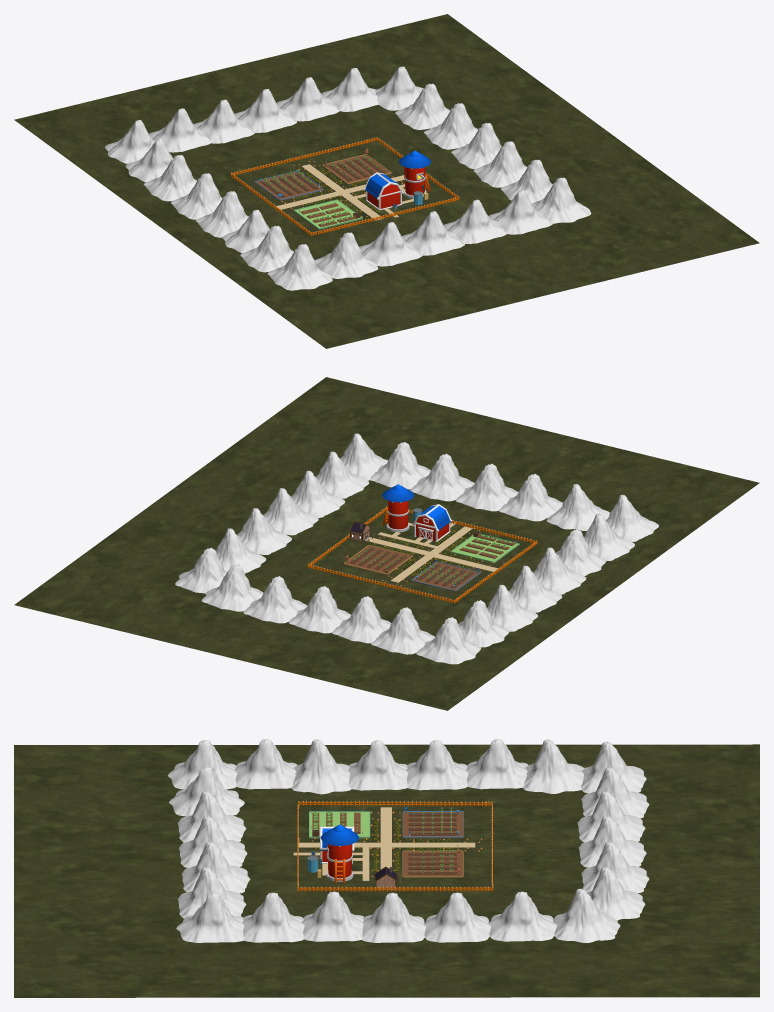
Rendered from finca.glb.
3 views of the same model, one above another, from view 1: azimuth 30°, elevation 25°; view 2: azimuth 150°, elevation 25°; view 3: azimuth 270°, elevation 25° (orthographic). The views are drawn at different scales.
Visible parts, largest first — view 1: Plane.065_Grass Landscape_0, Mountain01_LOD0.015, Mountain01_LOD0.017, Mountain01_LOD0.021, Mountain01_LOD0.022, Mountain01_LOD0.020, Mountain01_LOD0.018, Mountain01_LOD0.010, Mountain01_LOD0.004, Mountain01_LOD0.019, Mountain01_LOD0.005, Mountain01_LOD0.009 (+20 smaller); view 2: Plane.065_Grass Landscape_0, Mountain01_LOD0, Mountain01_LOD0.021, Mountain01_LOD0.020, Mountain01_LOD0.004, Mountain01_LOD0.001, Mountain01_LOD0.019, Mountain01_LOD0.008, Mountain01_LOD0.005, Mountain01_LOD0.018, Mountain01_LOD0.003, Mountain01_LOD0.017 (+21 smaller); view 3: Plane.065_Grass Landscape_0, Mountain01_LOD0.009, Mountain01_LOD0.010, Mountain01_LOD0.006, Mountain01_LOD0.022, Mountain01_LOD0.011, Mountain01_LOD0.024, Mountain01_LOD0.012, Mountain01_LOD0.023, Mountain01_LOD0.013, Mountain01_LOD0.016, Mountain01_LOD0.014 (+22 smaller).
Boxes of the visible parts, <box> form: Plane.065_Grass Landscape_0: <box>14,14,759,348</box>; Mountain01_LOD0.015: <box>267,244,332,290</box>; Mountain01_LOD0.017: <box>314,232,378,278</box>; Mountain01_LOD0.021: <box>359,222,422,266</box>; Mountain01_LOD0.022: <box>532,177,591,223</box>; Mountain01_LOD0.020: <box>443,199,507,243</box>; Mountain01_LOD0.018: <box>488,190,552,234</box>; Mountain01_LOD0.010: <box>395,83,450,129</box>; Mountain01_LOD0.004: <box>276,77,339,121</box>; Mountain01_LOD0.019: <box>401,211,464,255</box>; Mountain01_LOD0.005: <box>234,89,297,132</box>; Mountain01_LOD0.009: <box>424,103,478,149</box>; Plane.065_Grass Landscape_0: <box>14,377,759,710</box>; Mountain01_LOD0: <box>416,617,480,664</box>; Mountain01_LOD0.021: <box>499,473,562,521</box>; Mountain01_LOD0.020: <box>410,453,474,501</box>; Mountain01_LOD0.004: <box>243,576,307,623</box>; Mountain01_LOD0.001: <box>371,607,434,654</box>; Mountain01_LOD0.019: <box>455,463,518,511</box>; Mountain01_LOD0.008: <box>201,564,263,611</box>; Mountain01_LOD0.005: <box>288,586,351,633</box>; Mountain01_LOD0.018: <box>370,442,430,489</box>; Mountain01_LOD0.003: <box>332,596,391,643</box>; Mountain01_LOD0.017: <box>547,484,609,530</box>; Plane.065_Grass Landscape_0: <box>14,744,759,997</box>; Mountain01_LOD0.009: <box>424,892,490,942</box>; Mountain01_LOD0.010: <box>488,891,556,941</box>; Mountain01_LOD0.006: <box>553,888,620,942</box>; Mountain01_LOD0.022: <box>176,892,244,942</box>; Mountain01_LOD0.011: <box>362,892,425,942</box>; Mountain01_LOD0.024: <box>242,892,304,942</box>; Mountain01_LOD0.012: <box>406,740,468,790</box>; Mountain01_LOD0.023: <box>301,891,363,941</box>; Mountain01_LOD0.013: <box>522,739,583,793</box>; Mountain01_LOD0.016: <box>234,739,296,789</box>; Mountain01_LOD0.014: <box>291,739,351,794</box>.
Size of the model in its own units: 128 by 12.17 by 160.
Materials: 451 (391 with a texture image).
